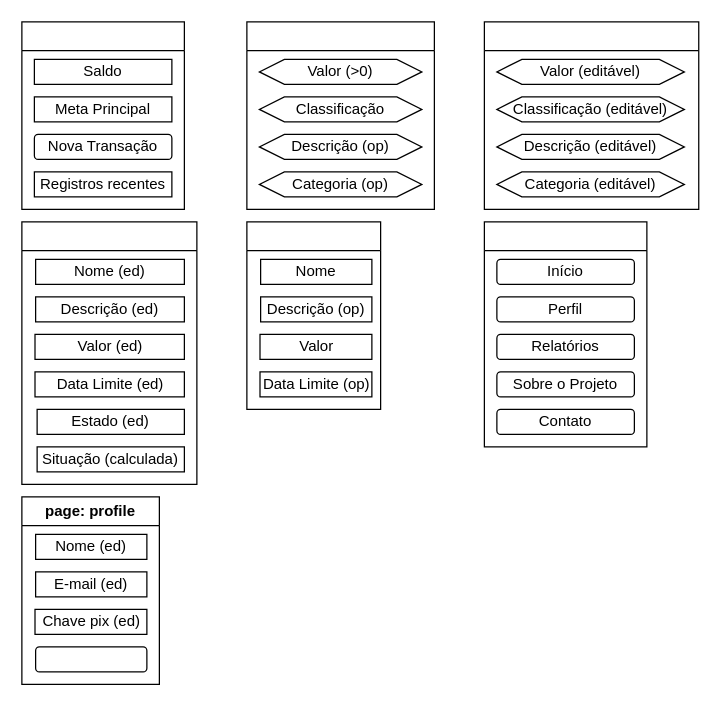
The diagram is 721 pixels wide and 706 high, and some of its shapes have lost their labels. The shapes that lost their labels are listed below. From the top down, each one's box as (x1, y1, x2, y2) in pixels, then its label:
(21, 21, 184, 209): page: index
(246, 21, 434, 209): form: new-transaction
(483, 21, 699, 209): modal: transaction
(246, 221, 381, 409): form: new-goal
(483, 221, 647, 447): menu: nav-menu
(21, 221, 197, 484): page: goal
(34, 646, 147, 672): Imprimir
